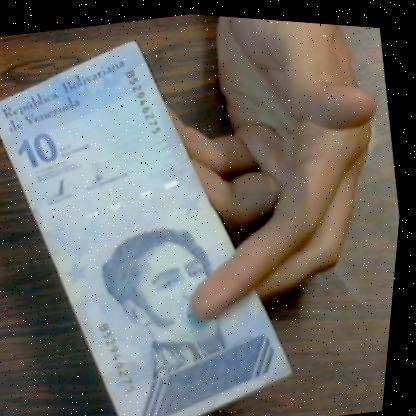ten-front-vef: (0, 6, 335, 416)
